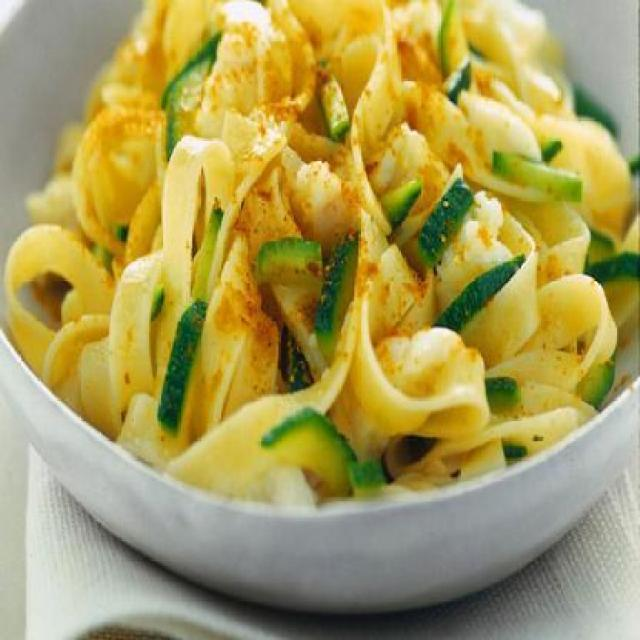Oil pasta: (44, 11, 640, 568)
